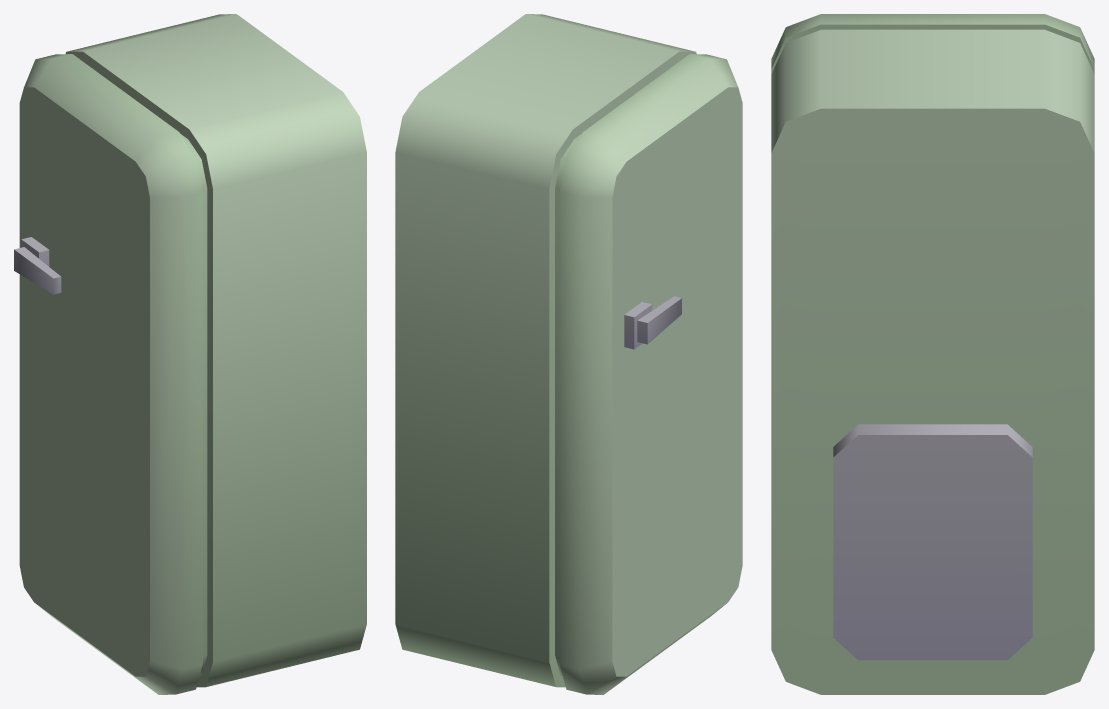
Rendered from fridge-retro.glb.
The picture shows the model from 3 angles, left to right: view 1: azimuth 30°, elevation 25°; view 2: azimuth 150°, elevation 25°; view 3: azimuth 270°, elevation 25°; orthographic projection. The views are drawn at different scales.
Parts seen in each view (by area): view 1: fridge-retro; view 2: fridge-retro; view 3: fridge-retro.
Boxes of the visible parts, <box> form: fridge-retro: <box>14,14,366,694</box>; fridge-retro: <box>395,14,742,694</box>; fridge-retro: <box>771,14,1094,694</box>.
Size of the model in its own units: 0.6 by 1.3 by 0.65.
